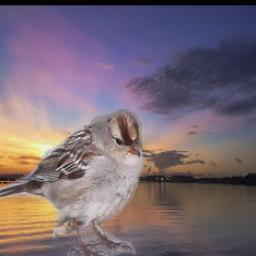Sparrow: (0, 110, 149, 256)
